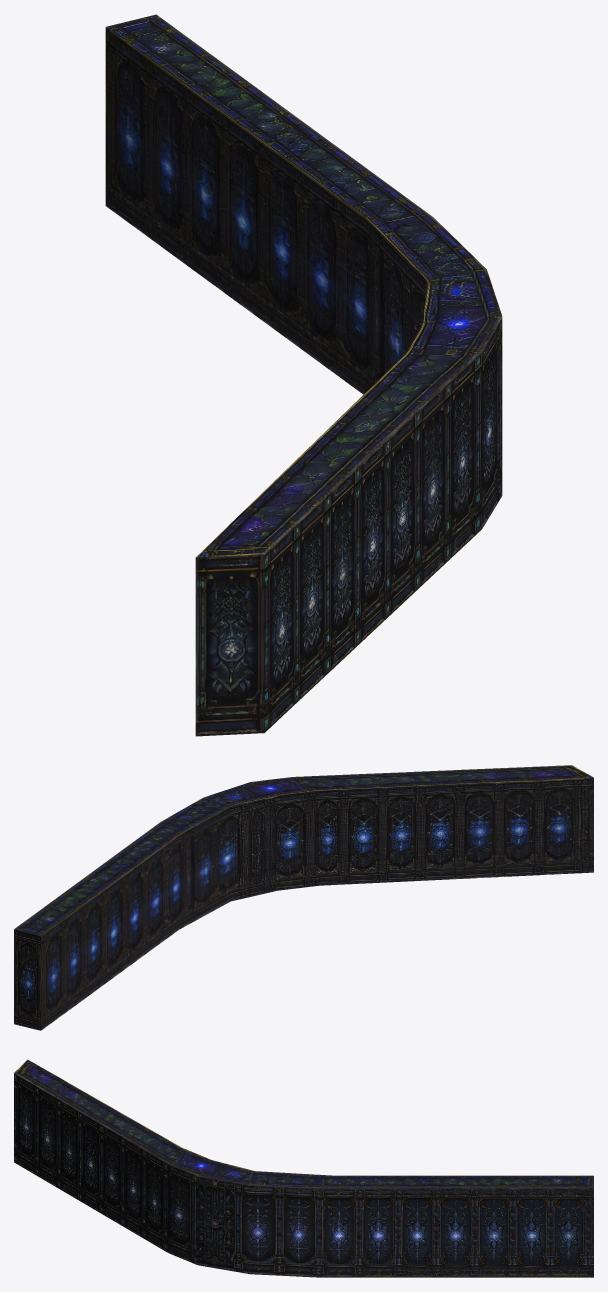
Rendered from ramp_pale_down_right_death_lvl_4.glb.
3 views of the same model, one above another, from view 1: azimuth 30°, elevation 25°; view 2: azimuth 150°, elevation 25°; view 3: azimuth 270°, elevation 25° (orthographic). The views are drawn at different scales.
Parts seen in each view (by area): view 1: Mesh_0.008; view 2: Mesh_0.008; view 3: Mesh_0.008.
Boxes of the visible parts, x1,y1,x2,y2 form: Mesh_0.008: (105, 14, 502, 736); Mesh_0.008: (14, 765, 593, 1030); Mesh_0.008: (14, 1059, 593, 1277).
Size of the model in its own units: 0.1283 by 0.0416 by 0.2445.
1 material, 1 textured.
